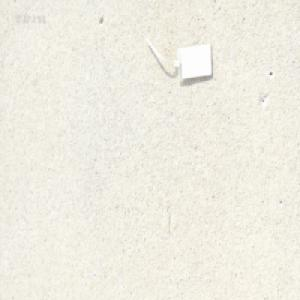LuggageTag: (142, 38, 215, 83)
